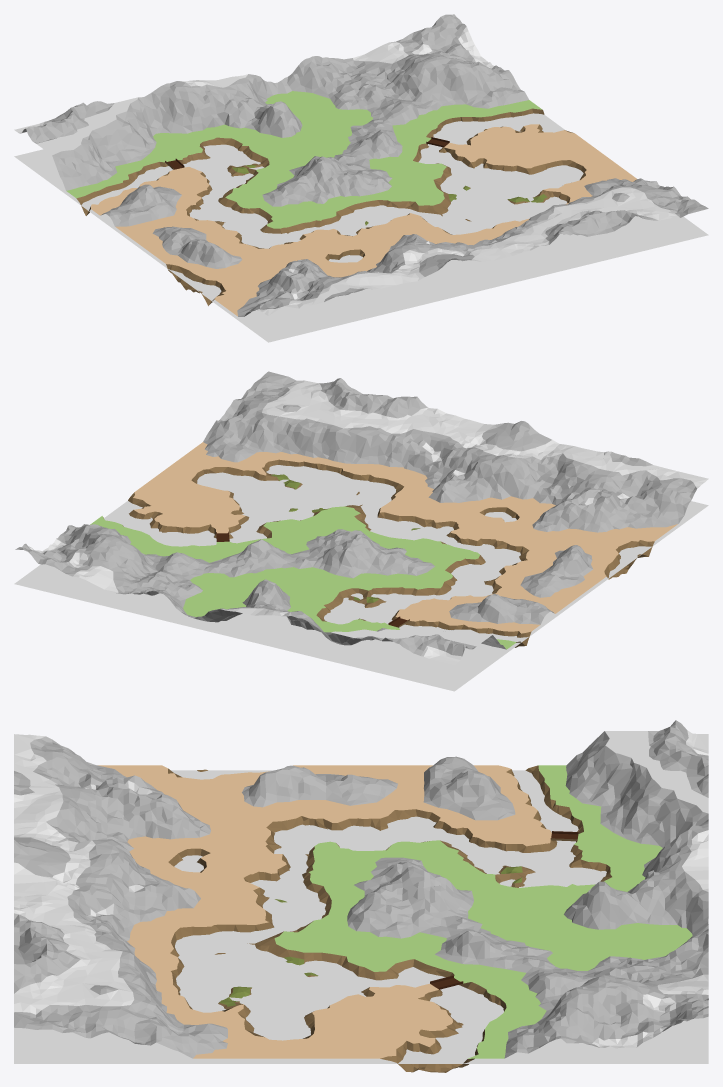
The model's file is Map1_renew-fix.fbx.
3 views of the same model, one above another, from view 1: azimuth 30°, elevation 25°; view 2: azimuth 150°, elevation 25°; view 3: azimuth 270°, elevation 25° (orthographic). The views are drawn at different scales.
Parts seen in each view (by area): view 1: Land, Water; view 2: Land, Water; view 3: Land, Water.
Part boxes in pixels (bbox=[...]): Land: bbox=[14, 14, 708, 316]; Water: bbox=[14, 113, 708, 342]; Land: bbox=[15, 371, 708, 664]; Water: bbox=[14, 465, 708, 691]; Land: bbox=[14, 720, 708, 1072]; Water: bbox=[14, 770, 708, 1063].
Bounding box in the file's own units: 45031 × 4650 × 45032.
